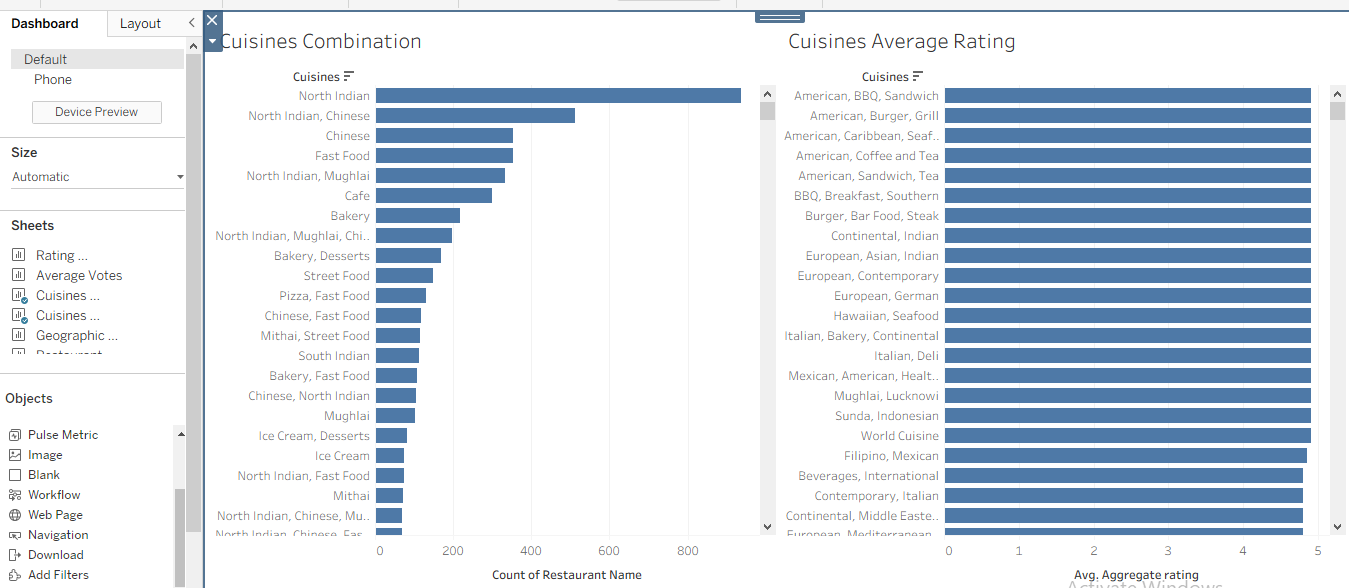

Layout of this report page (visuals, bound fields, positions):
{"tool":"tableau","page":{"name":"Cuisines Combination Dashboard","canvas":[1000,1000],"units":"permille","ordinal":0},"visuals":[{"type":"worksheet","title":"Cuisines Combination","mark":"Bar","rows":["Cuisines"],"cols":["Restaurant Name"],"box":[6.9,13.5,492.6,973]},{"type":"worksheet","title":"Cuisines Average Rating","mark":"Bar","rows":["Cuisines"],"cols":["Aggregate rating"],"box":[499.6,13.5,493.5,973]}]}

Visuals, with their boxes on the dashboard's canvas, which has no fixed pixel size, in thousandths of its width and height (x1, y1, x2, y2). These are canvas units, not pixel positions in the 1349x588 screenshot, which may show the page scaled, cropped or inside an application window:
"Cuisines Combination" worksheet (Bar marks): bbox=[7, 14, 500, 986]
"Cuisines Average Rating" worksheet (Bar marks): bbox=[500, 14, 993, 986]
